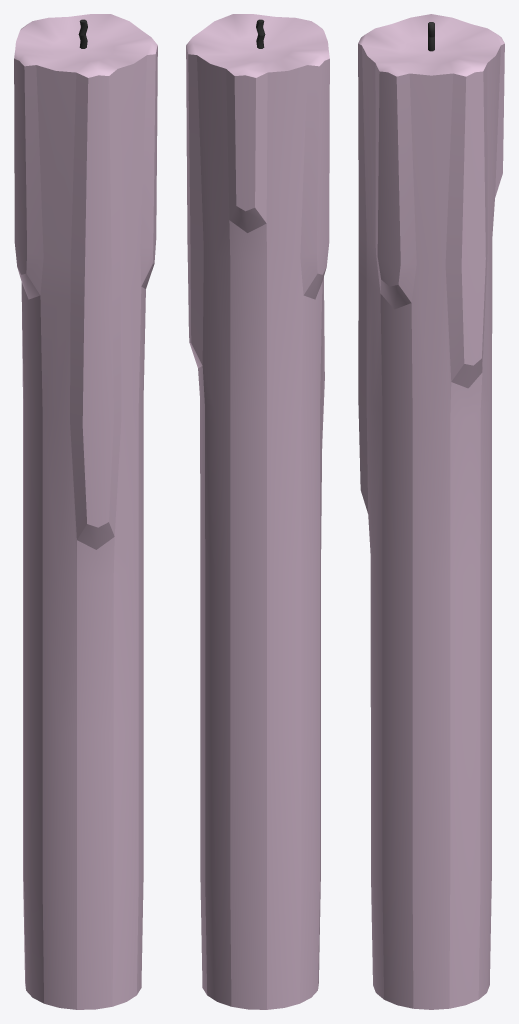
The model's file is Candle.fbx.
3 renders of one model, left to right at view 1: azimuth 30°, elevation 25°; view 2: azimuth 150°, elevation 25°; view 3: azimuth 270°, elevation 25°, orthographic.
Visible parts, largest first — view 1: Candle; view 2: Candle; view 3: Candle.
Part boxes in pixels (box(x1,y1,x2,y2)): Candle: box(14, 14, 157, 1009); Candle: box(186, 14, 329, 1009); Candle: box(358, 14, 504, 1009).
Size of the model in its own units: 3.95 by 29.76 by 4.11.
